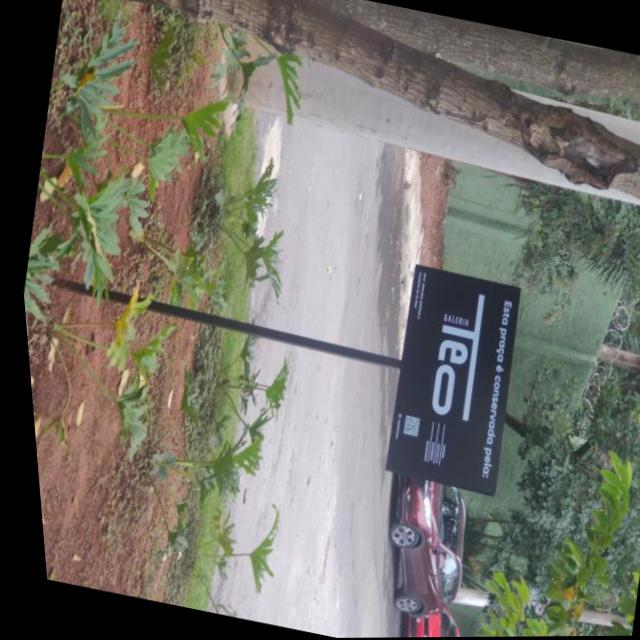qrcode: (395, 418, 412, 437)
